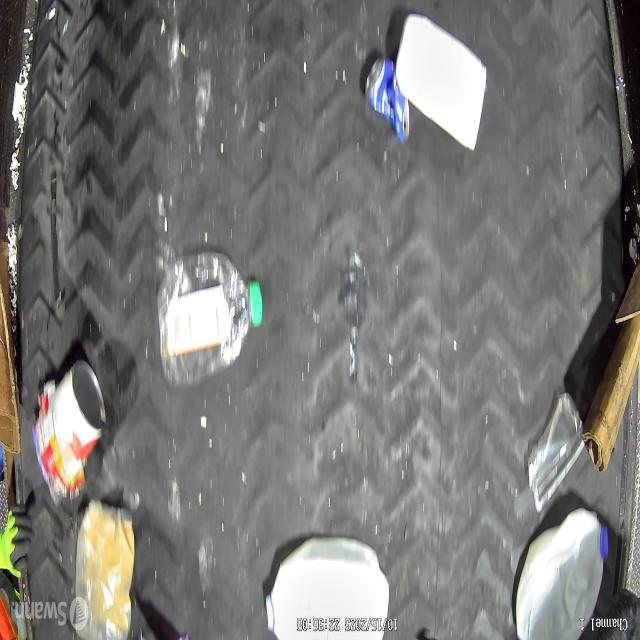can: (31, 358, 107, 508), (365, 52, 413, 148)
milk_jug: (264, 536, 388, 636), (514, 508, 608, 639)
plastic_bottle: (156, 248, 263, 386)
